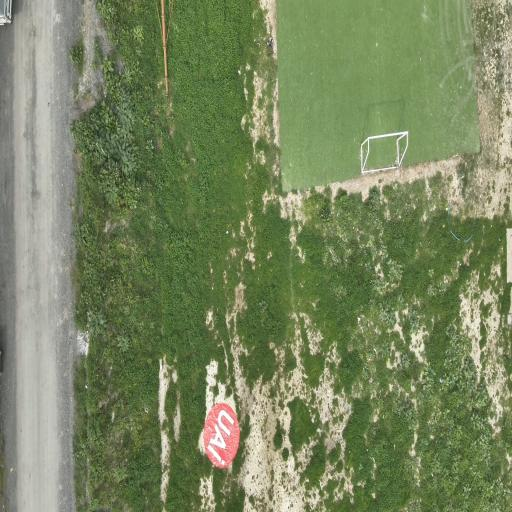UAI: (204, 403, 239, 468)
car: (0, 0, 11, 25)
